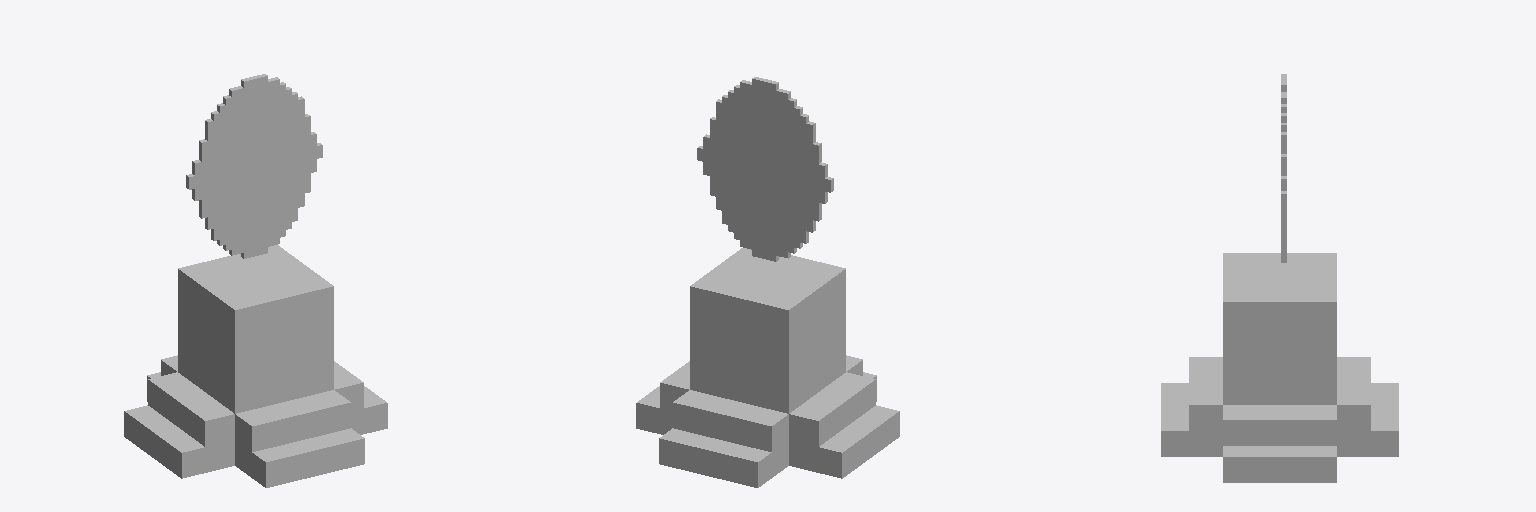
The model's file is spaceblock.obj.
The picture shows the model from 3 angles: view 1: azimuth 30°, elevation 25°; view 2: azimuth 150°, elevation 25°; view 3: azimuth 270°, elevation 25°; orthographic projection.
Visible parts, largest first — view 1: altar1; view 2: altar1; view 3: altar1.
Boxes of the visible parts, x1=… form: altar1: x1=124, y1=74, x2=387, y2=487; altar1: x1=636, y1=77, x2=899, y2=487; altar1: x1=1161, y1=74, x2=1398, y2=482.
Bounding box in the file's own units: 0.9986 × 1.64 × 0.9986.